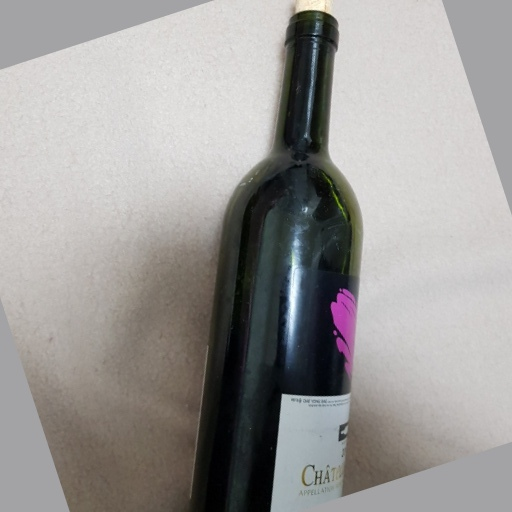Glass_2: (189, 1, 371, 512)
